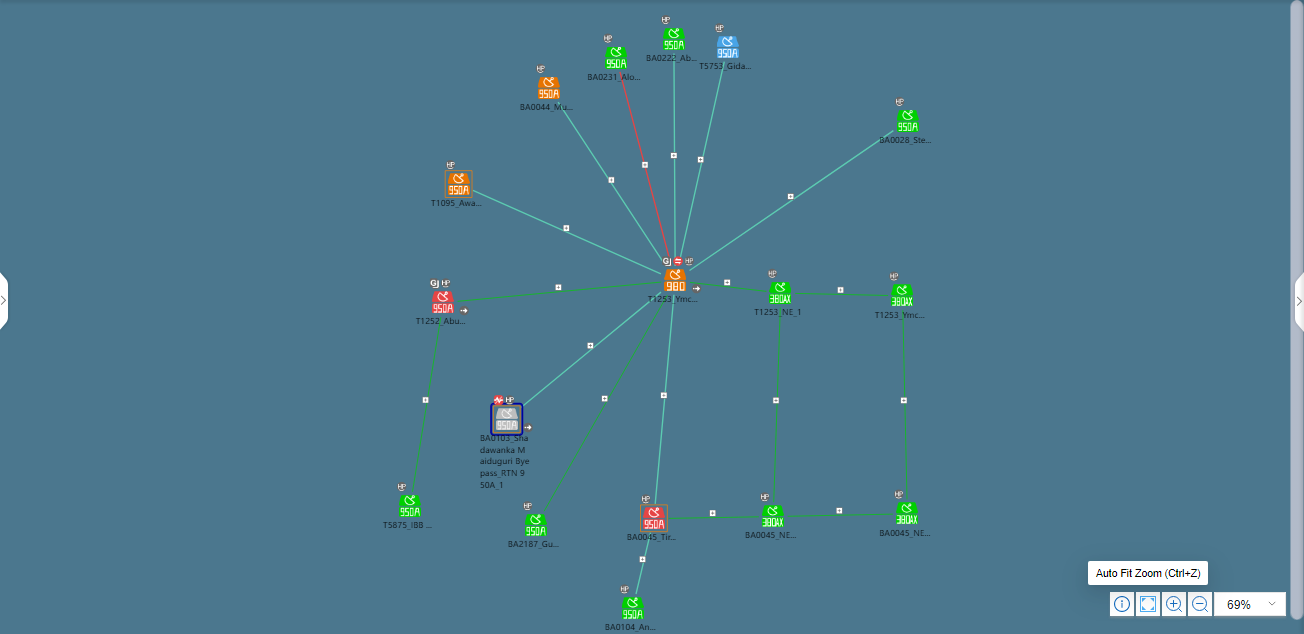Link_Blue: (689, 125, 888, 266), (485, 191, 660, 278), (558, 113, 660, 256), (526, 319, 623, 396), (681, 60, 721, 229), (656, 297, 678, 437), (632, 533, 654, 596)
Link_Green: (542, 311, 656, 502), (412, 313, 438, 464), (460, 280, 619, 299), (770, 305, 784, 454), (901, 439, 915, 496)
Link_Red: (615, 79, 664, 246)
RTN_Blue: (721, 36, 744, 56)
RTN_Gray: (493, 403, 524, 431)
RTN_Green: (892, 500, 923, 531), (892, 109, 923, 140), (395, 492, 426, 523), (770, 280, 793, 311), (607, 44, 630, 75), (892, 280, 915, 311), (623, 598, 646, 619), (664, 28, 687, 48), (526, 517, 546, 539), (762, 509, 782, 531)
RTN_Orange: (444, 174, 475, 195), (534, 77, 564, 97), (664, 272, 685, 295)
RTN_Red: (428, 288, 458, 319), (640, 509, 670, 531)
